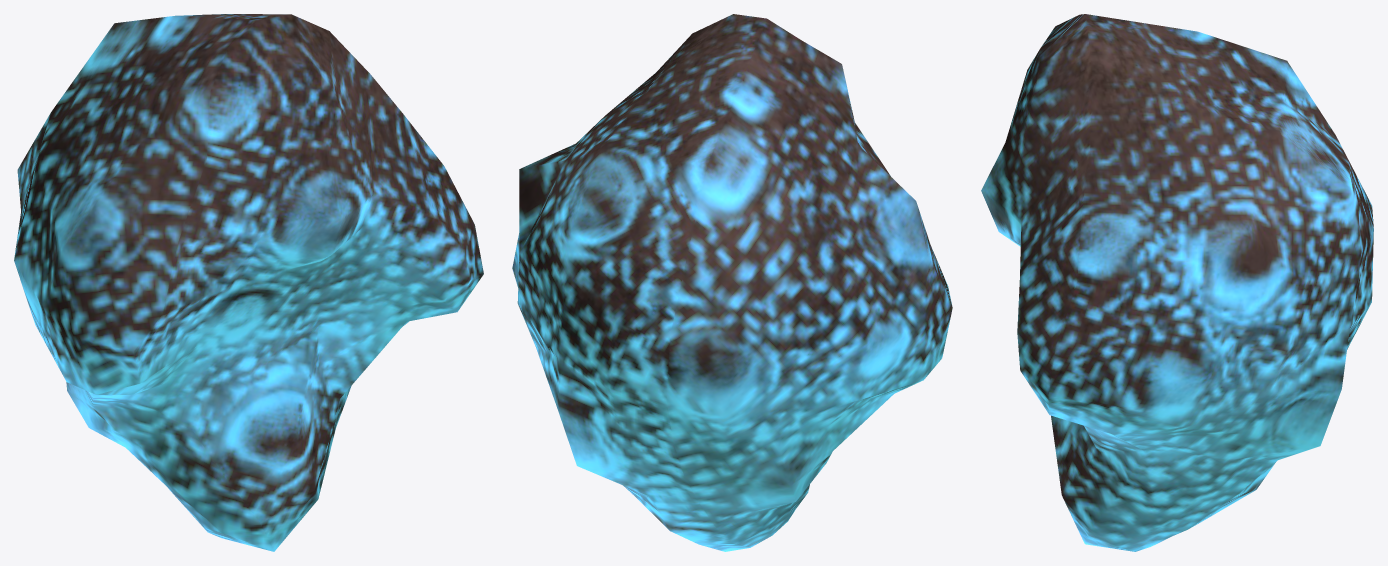
The model's file is fruit.glb.
The picture shows the model from 3 angles, left to right: view 1: azimuth 30°, elevation 25°; view 2: azimuth 150°, elevation 25°; view 3: azimuth 270°, elevation 25°; orthographic projection. The views are drawn at different scales.
Parts seen in each view (by area): view 1: fruit1_l; view 2: fruit1_l; view 3: fruit1_l.
Boxes of the visible parts, left/top/right/bottom form: fruit1_l: left=14, top=14, right=483, bottom=551; fruit1_l: left=512, top=14, right=952, bottom=551; fruit1_l: left=981, top=14, right=1373, bottom=551.
Bounding box in the file's own units: 0.4935 × 0.6185 × 0.4171.
1 material, 1 textured.
